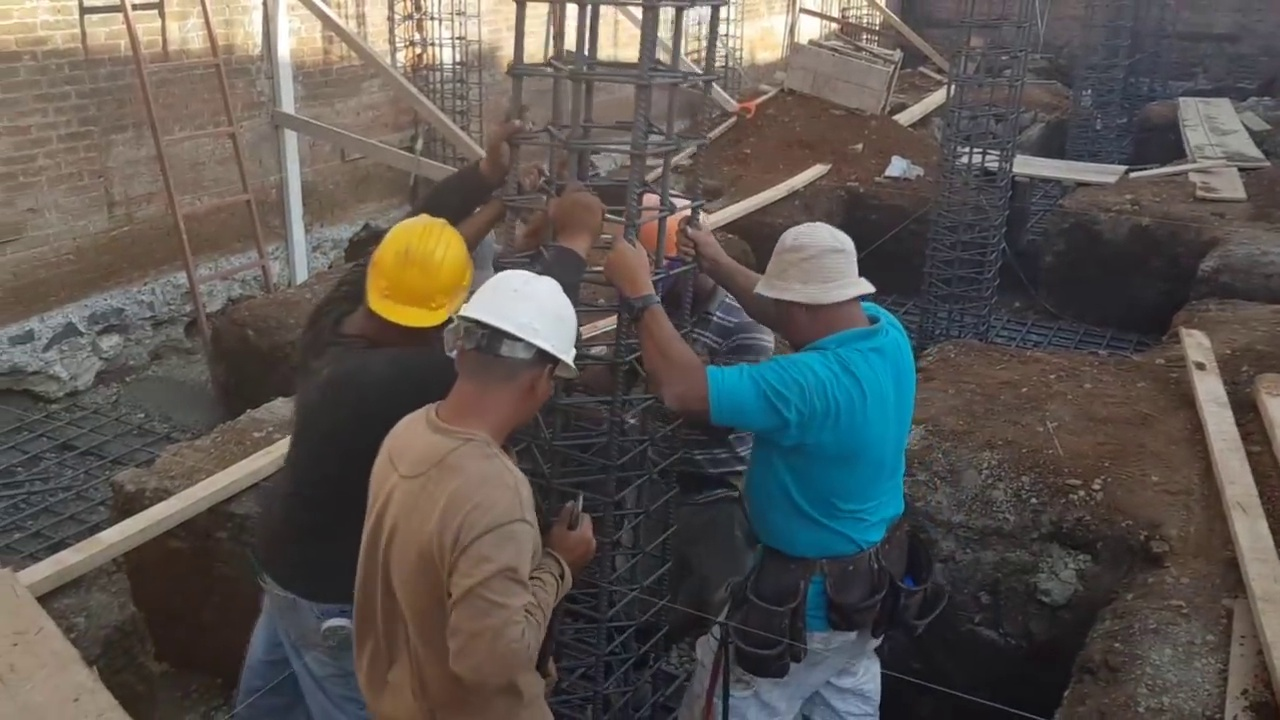helmet: (448, 271, 579, 375), (368, 216, 471, 329), (636, 190, 693, 282)
helmet-off: (726, 226, 876, 345)
helmet-on: (427, 268, 583, 441), (333, 219, 470, 356), (635, 188, 722, 317)
person: (238, 98, 530, 719), (589, 201, 912, 720), (358, 269, 596, 719), (632, 186, 771, 632)
